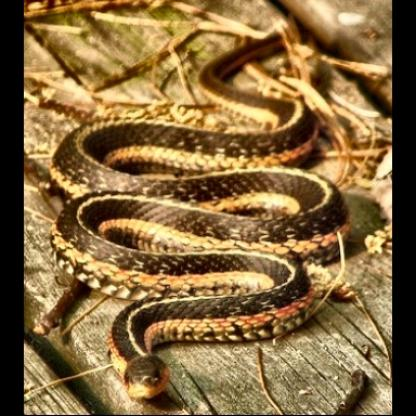Snake: (48, 11, 378, 405)
